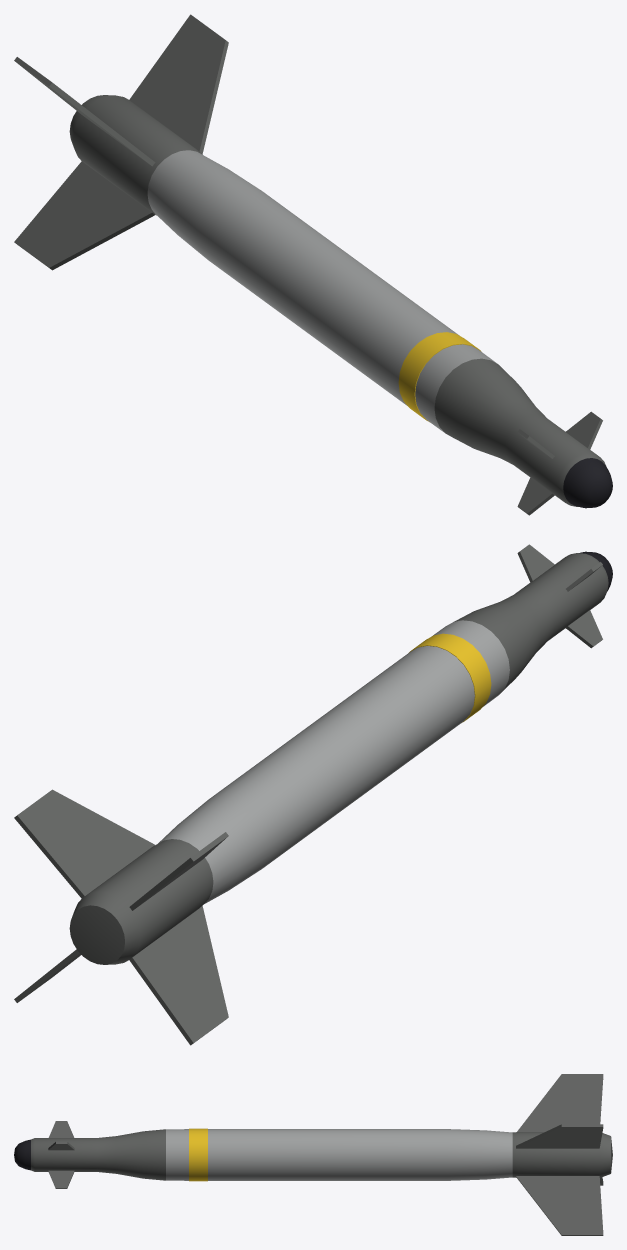
File: gbu.glb
3 views of the same model, one above another, from view 1: azimuth 30°, elevation 25°; view 2: azimuth 150°, elevation 25°; view 3: azimuth 270°, elevation 25° (orthographic). The views are drawn at different scales.
Parts seen in each view (by area): view 1: GBU; view 2: GBU; view 3: GBU.
Part boxes in pixels (x1,y1,x2,y2): GBU: (14,14,612,515); GBU: (14,544,612,1045); GBU: (14,1074,612,1235).
Size of the model in its own units: 0.6477 by 0.6477 by 3.15.
